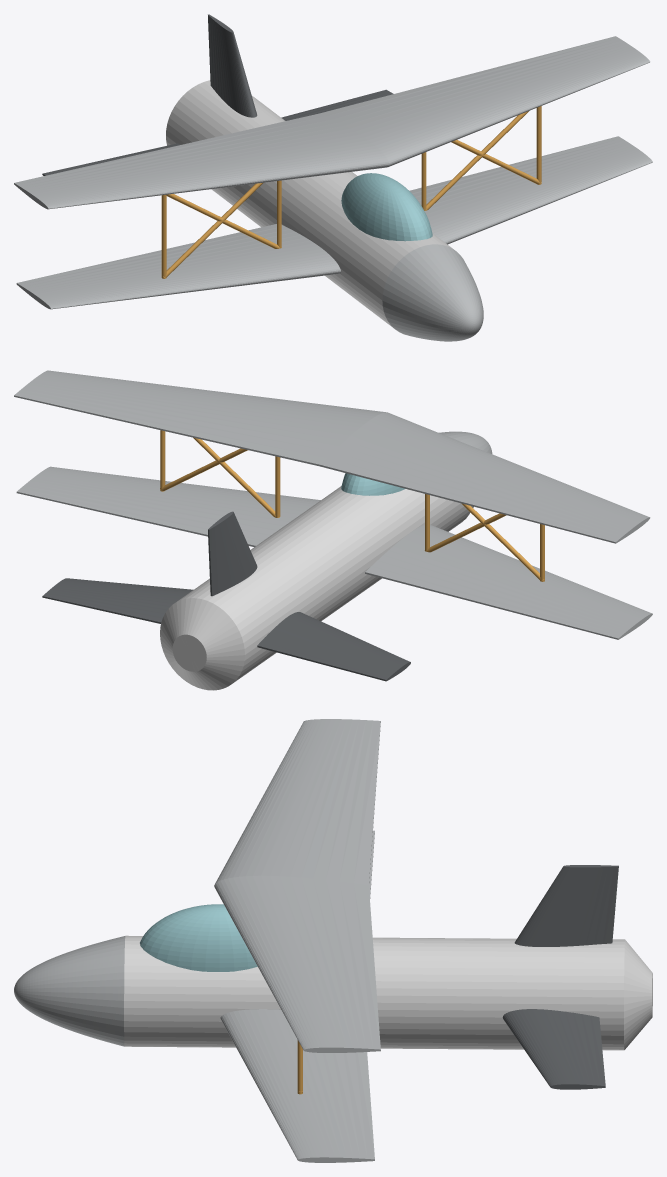
File: Stunning Krunk-Lappi.glb
3 renders of one model, top to bottom at view 1: azimuth 30°, elevation 25°; view 2: azimuth 150°, elevation 25°; view 3: azimuth 270°, elevation 25°, orthographic. The views are drawn at different scales.
Visible parts, largest first — view 1: Mesh_Mesh_head_geo.001_lambert2SG.001; view 2: Mesh_Mesh_head_geo.001_lambert2SG.001; view 3: Mesh_Mesh_head_geo.001_lambert2SG.001.
Part boxes in pixels (<box>): Mesh_Mesh_head_geo.001_lambert2SG.001: <box>14,14,652,341</box>; Mesh_Mesh_head_geo.001_lambert2SG.001: <box>14,370,652,690</box>; Mesh_Mesh_head_geo.001_lambert2SG.001: <box>14,719,652,1162</box>.
Bounding box in the file's own units: 0.14 × 0.0352 × 0.1151.
